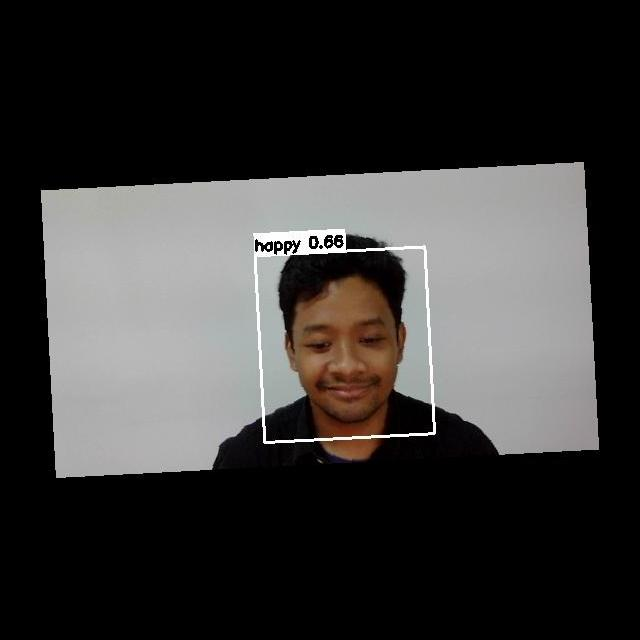Happy: (287, 307, 404, 414)
